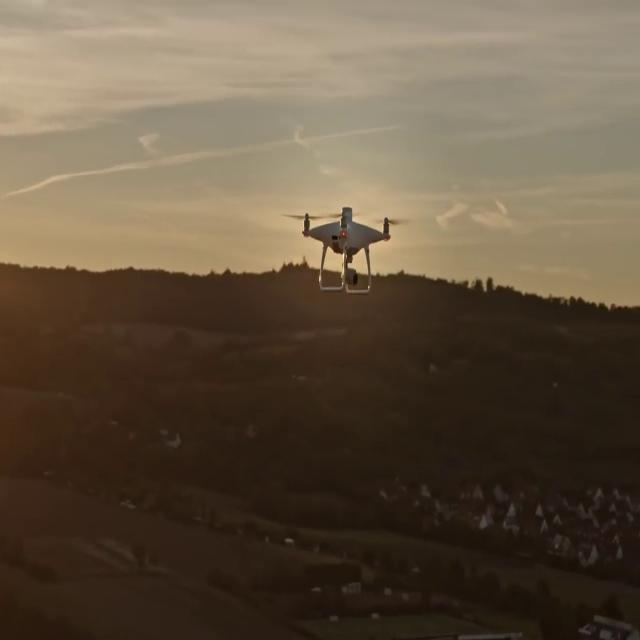drone: (281, 204, 413, 294)
